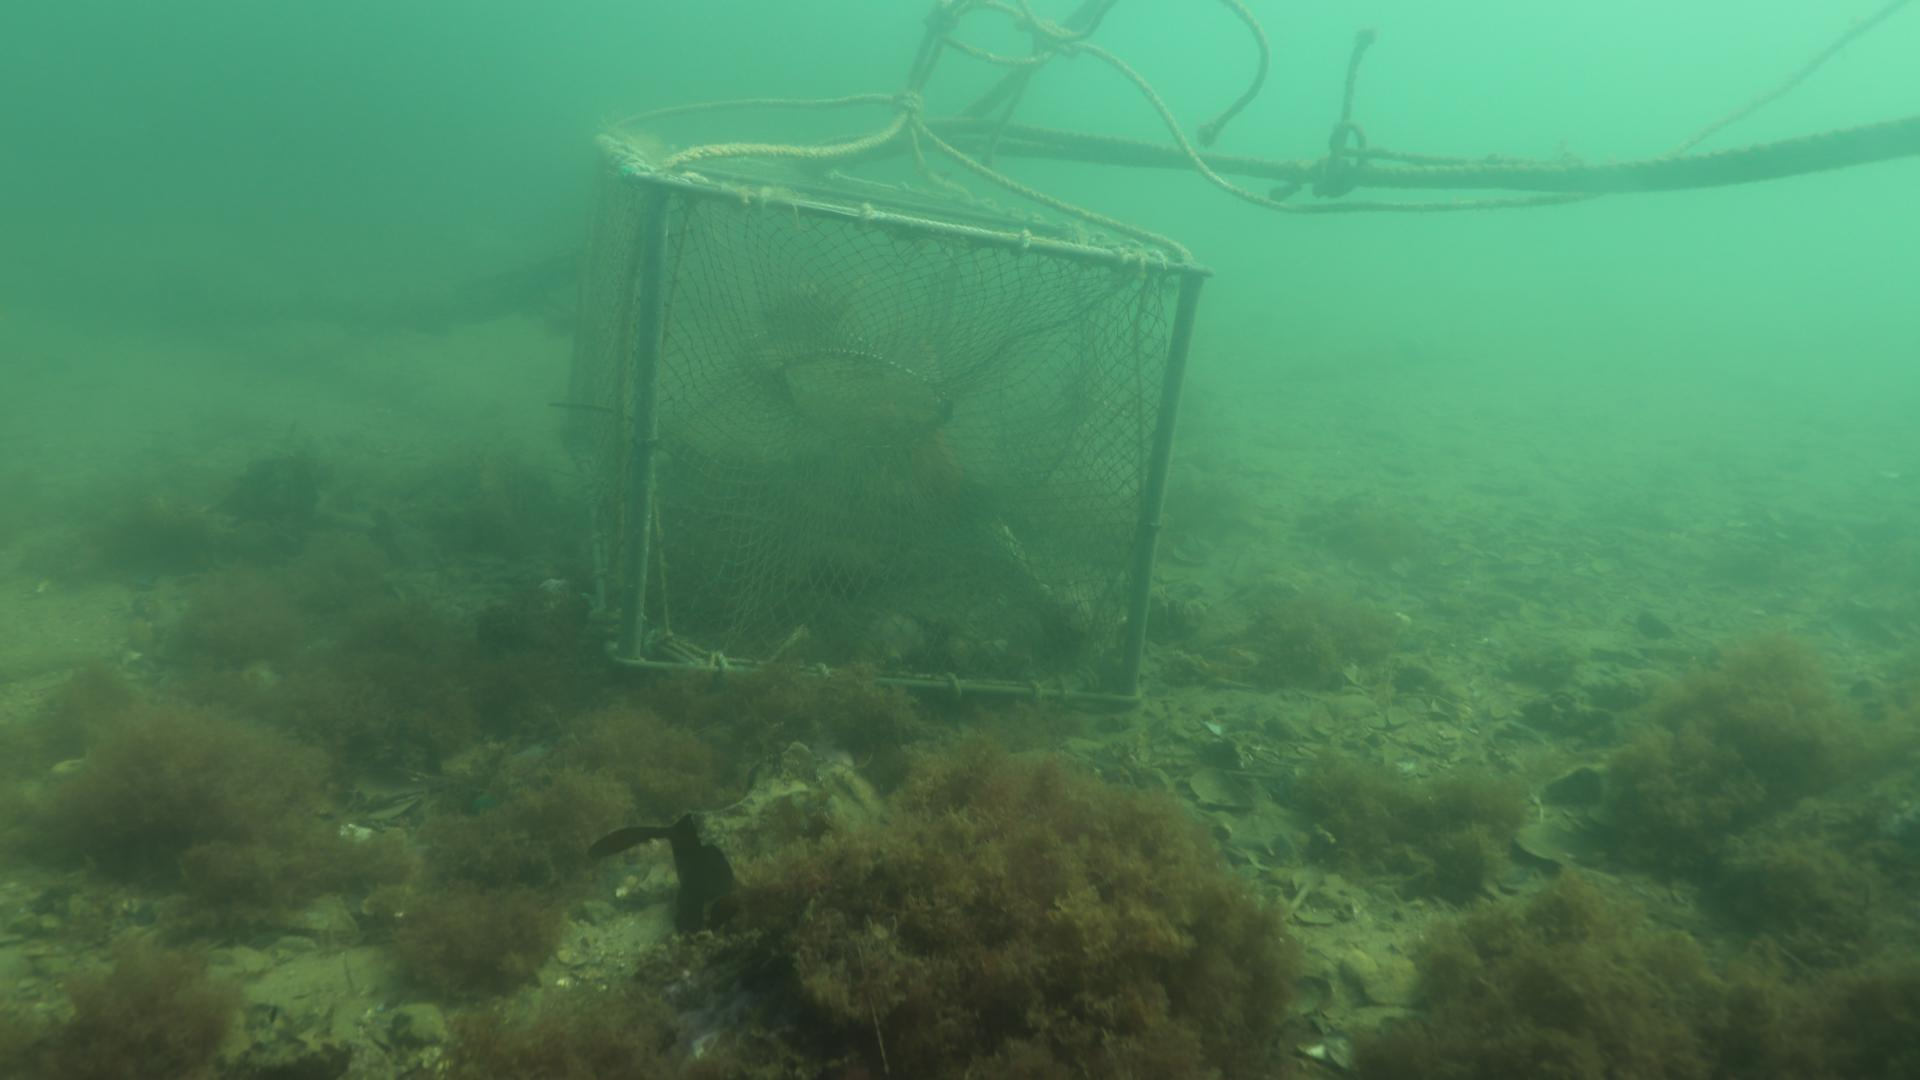bundle of ropes: (611, 0, 1920, 266)
rectangular fish trap: (563, 131, 1215, 709)
